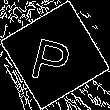P_N: (31, 26, 79, 84)
